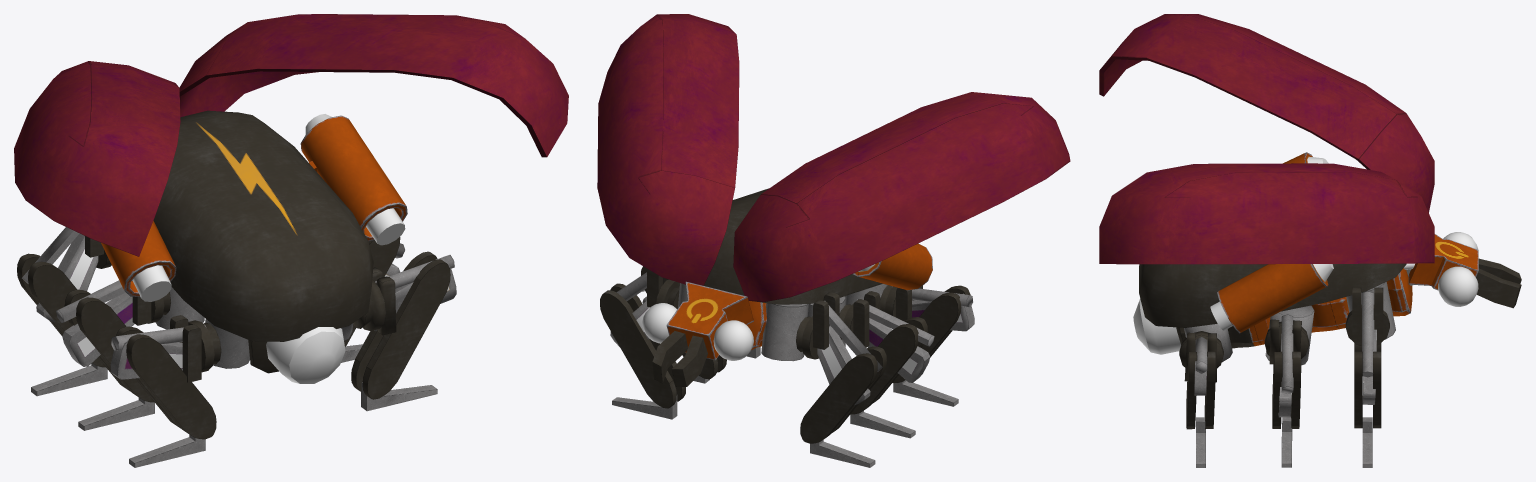
File: Fodder11Combined.fbx
3 views of the same model, side by side, from view 1: azimuth 30°, elevation 25°; view 2: azimuth 150°, elevation 25°; view 3: azimuth 270°, elevation 25° (orthographic). The views are drawn at different scales.
Parts seen in each view (by area): view 1: Cube.031; view 2: Cube.031; view 3: Cube.031.
Boxes of the visible parts, x1=… form: Cube.031: x1=14, y1=14, x2=568, y2=467; Cube.031: x1=597, y1=14, x2=1070, y2=467; Cube.031: x1=1099, y1=14, x2=1521, y2=467.
Bounding box in the file's own units: 273 × 183 × 228.
